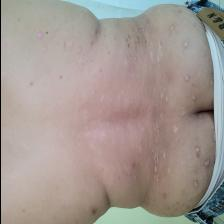Psoriasis vulgaris: (149, 122, 171, 182), (48, 27, 86, 60), (180, 31, 192, 83), (97, 42, 113, 76), (34, 31, 46, 55), (128, 51, 140, 74), (202, 154, 211, 170), (129, 157, 137, 169)
